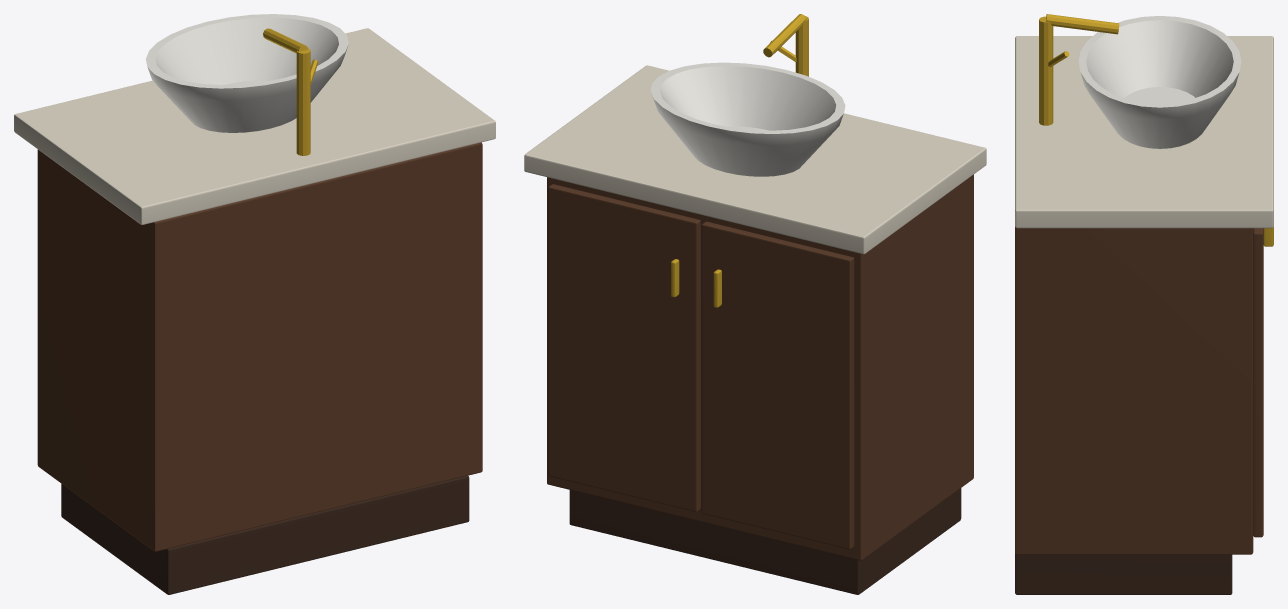
Rendered from prop_sink_vanity.glb.
3 renders of one model, left to right at view 1: azimuth 30°, elevation 25°; view 2: azimuth 150°, elevation 25°; view 3: azimuth 270°, elevation 25°, orthographic. The views are drawn at different scales.
Visible parts, largest first — view 1: Vanity; view 2: Vanity; view 3: Vanity.
Boxes of the visible parts, x1,y1,x2,y2 form: Vanity: [14, 14, 495, 594]; Vanity: [524, 14, 986, 594]; Vanity: [1015, 14, 1273, 594].
Size of what is drawn, in the model's own units: 0.8 by 1.08 by 0.5.
